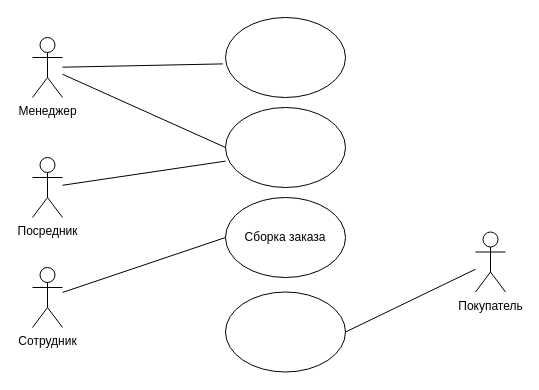
Some shapes in this 539 by 390 pixel diagram are drawn without their labels. Each missing label, with the centre of its shape:
"Выдача заказа на складе" belongs at (x=285, y=331).
"Закупка книг" belongs at (x=285, y=147).
"Решение о закупке" belongs at (x=285, y=57).
